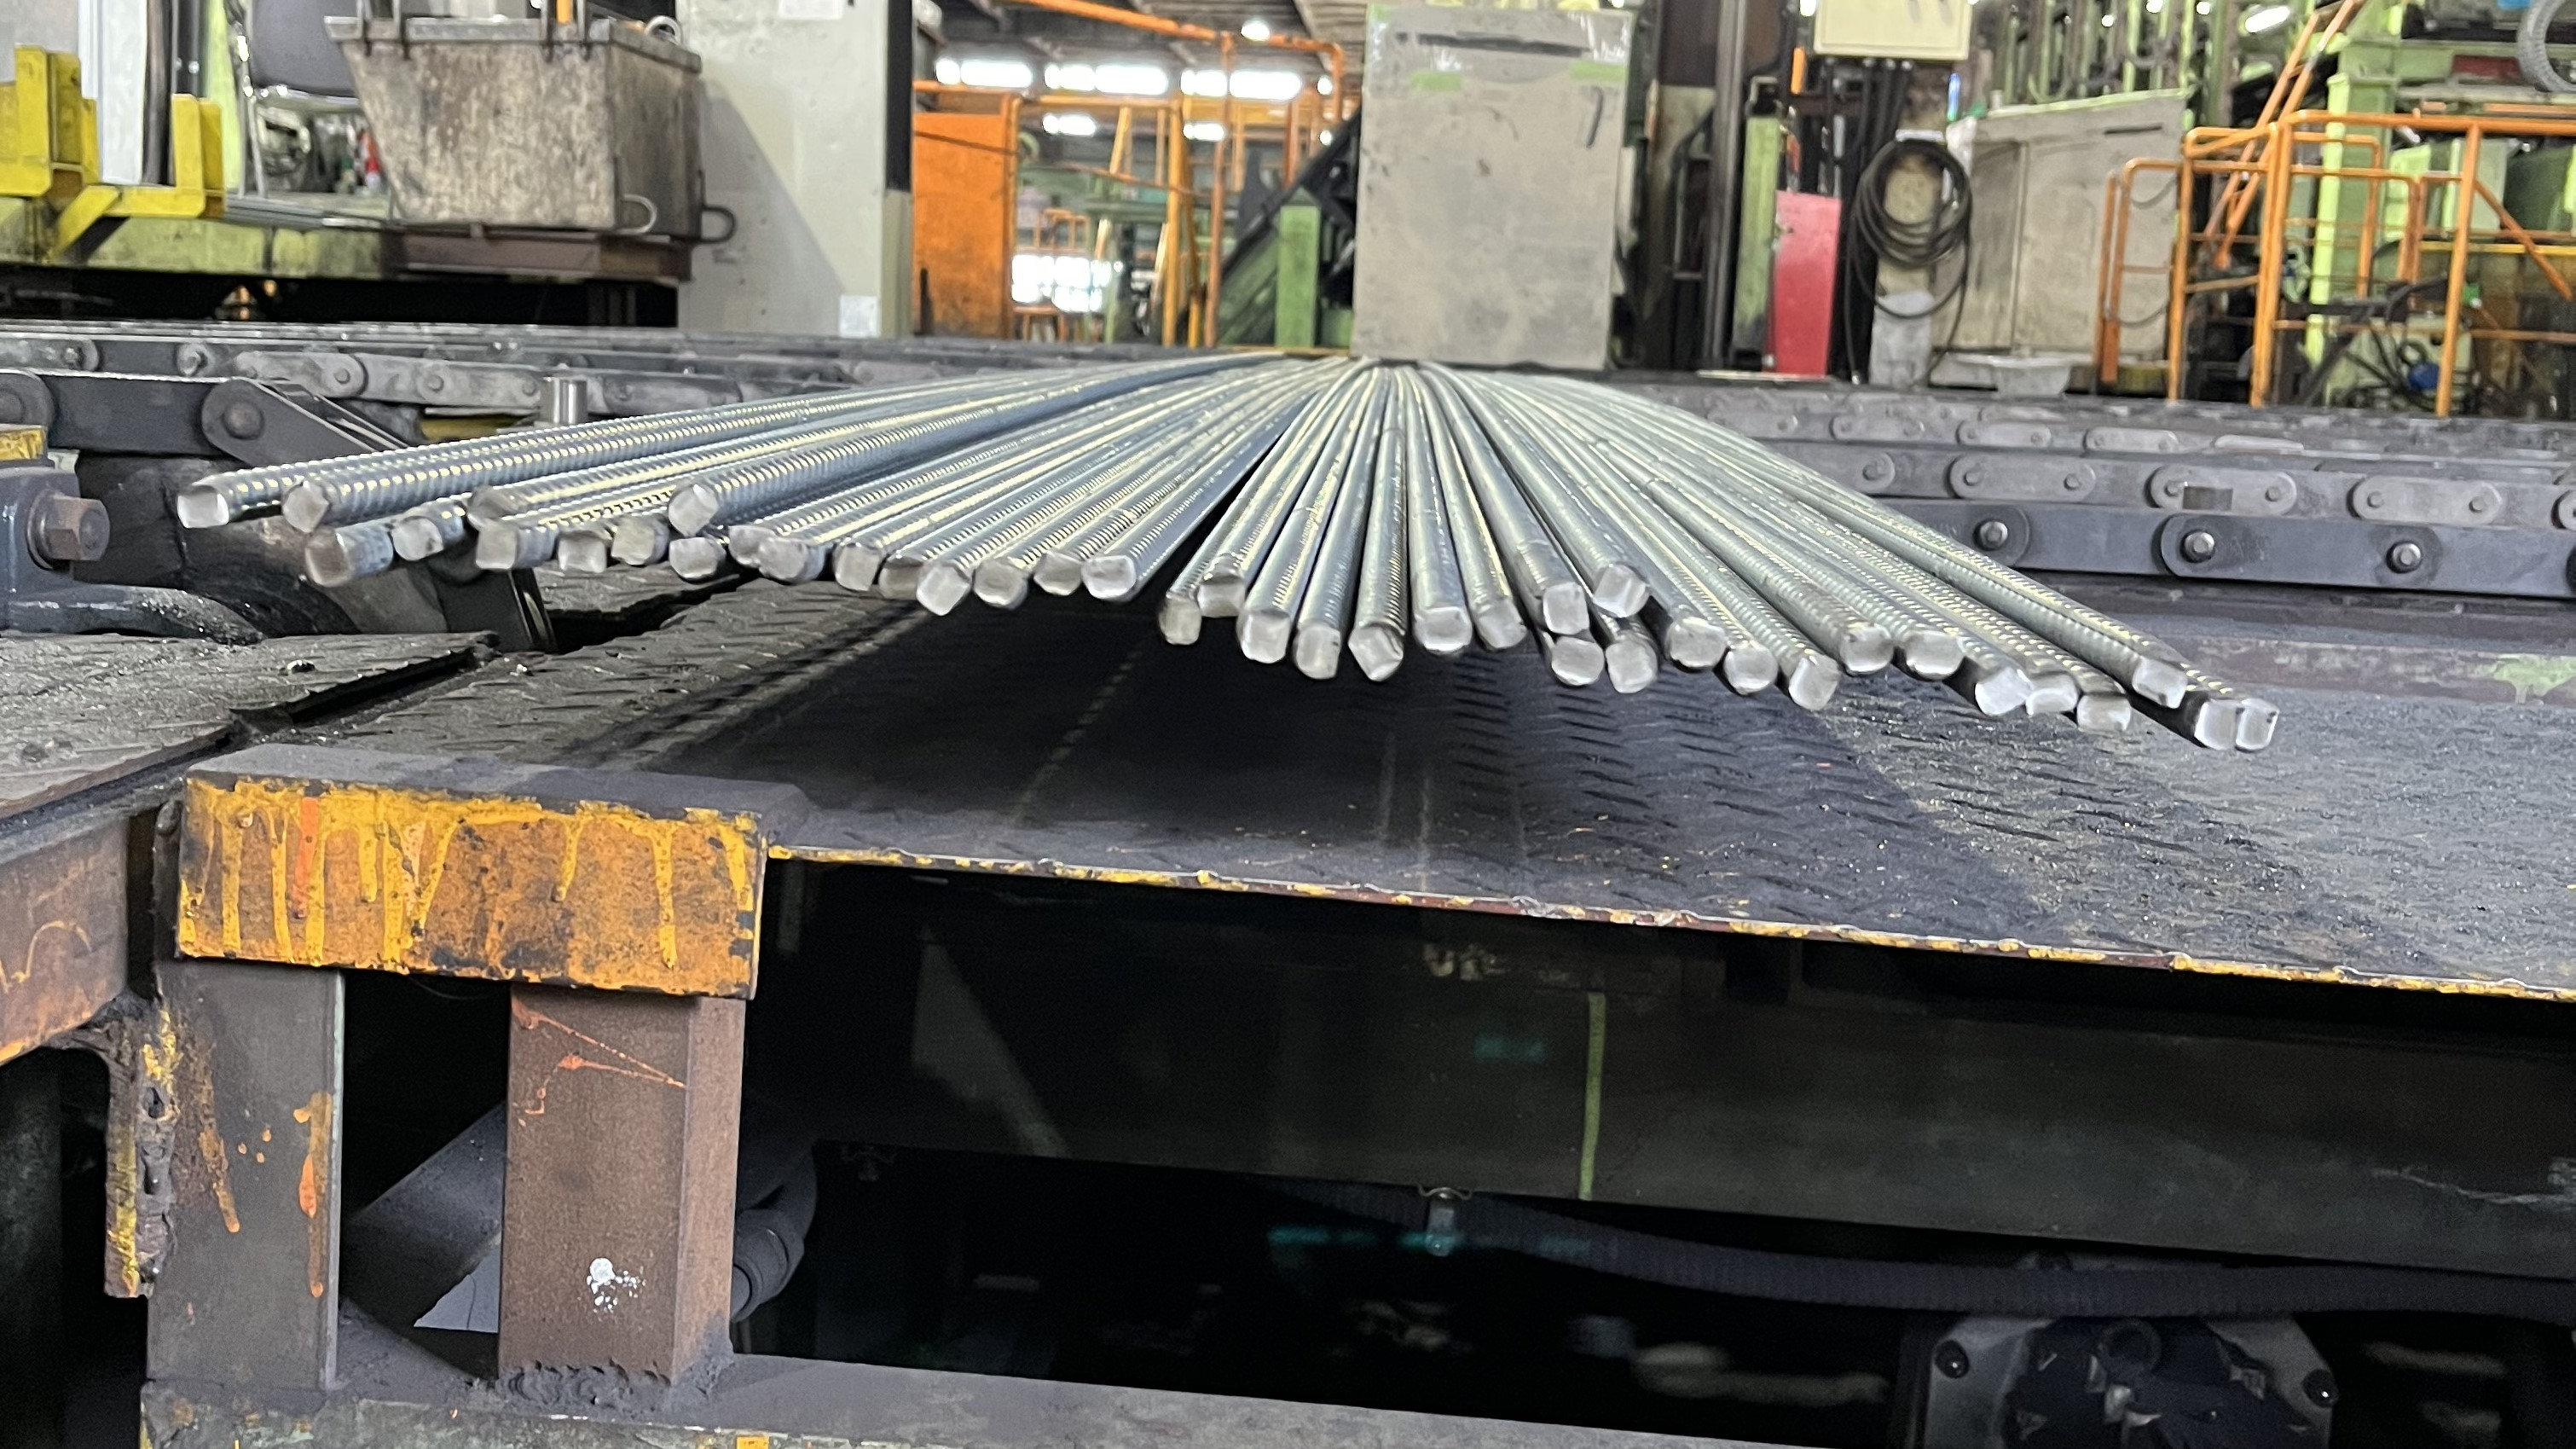rod: (1591, 561, 1652, 621), (1348, 621, 1405, 683), (2128, 655, 2189, 711), (1233, 607, 1290, 665), (1787, 653, 1842, 713), (915, 559, 970, 617), (303, 529, 354, 589), (1292, 621, 1343, 681), (1665, 617, 1725, 669), (1904, 630, 1964, 681), (1474, 596, 1529, 651), (1723, 642, 1780, 695), (1973, 665, 2031, 717), (1414, 607, 1474, 656), (278, 479, 331, 534), (973, 557, 1028, 610), (1541, 580, 1592, 637), (1550, 635, 1606, 686), (665, 483, 718, 536), (1605, 639, 1656, 694), (173, 483, 232, 531), (1842, 623, 1893, 674), (389, 517, 446, 563), (665, 536, 722, 582), (1079, 554, 1136, 600), (2075, 688, 2134, 732), (2192, 699, 2242, 750), (833, 541, 881, 594), (1155, 593, 1203, 646), (2236, 695, 2281, 752), (1033, 550, 1085, 598), (2024, 671, 2079, 715), (474, 520, 520, 571), (556, 529, 607, 575), (727, 522, 778, 568), (610, 513, 655, 566), (878, 554, 927, 600), (1196, 573, 1247, 617), (755, 538, 809, 580), (465, 483, 513, 529)
